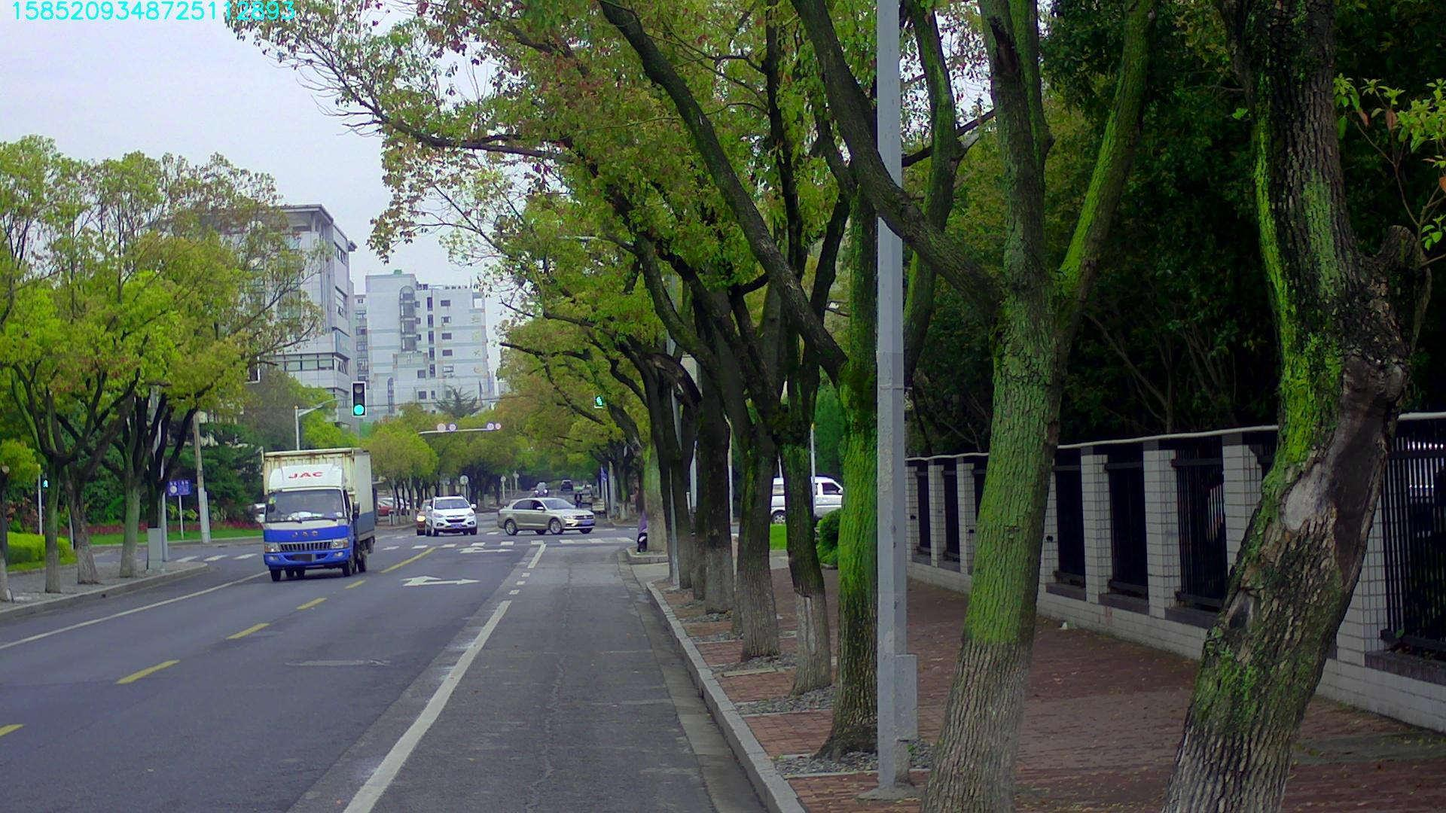green: (351, 382, 365, 416), (594, 393, 607, 407)
